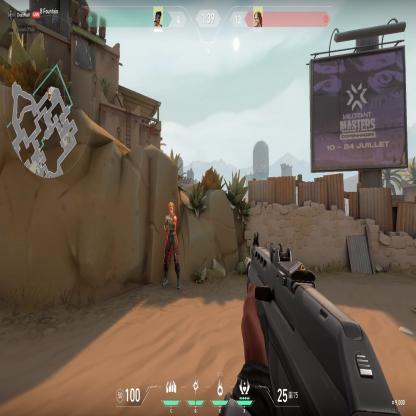enemy: (161, 199, 182, 292)
